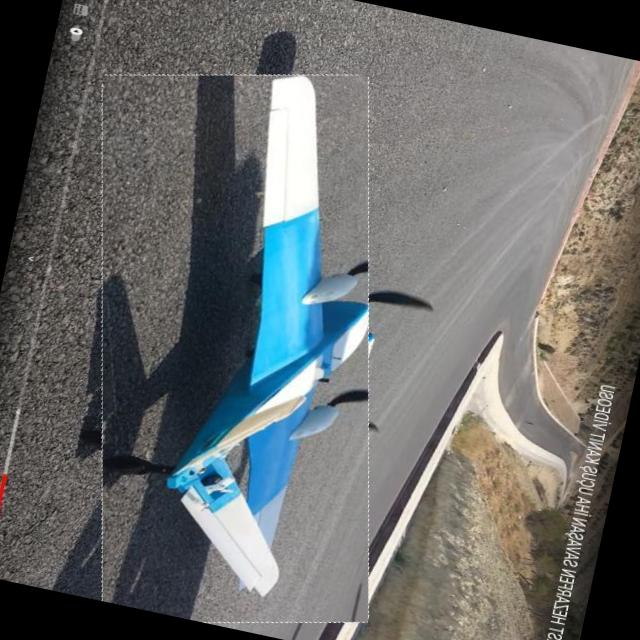UAV: (44, 25, 474, 612)
